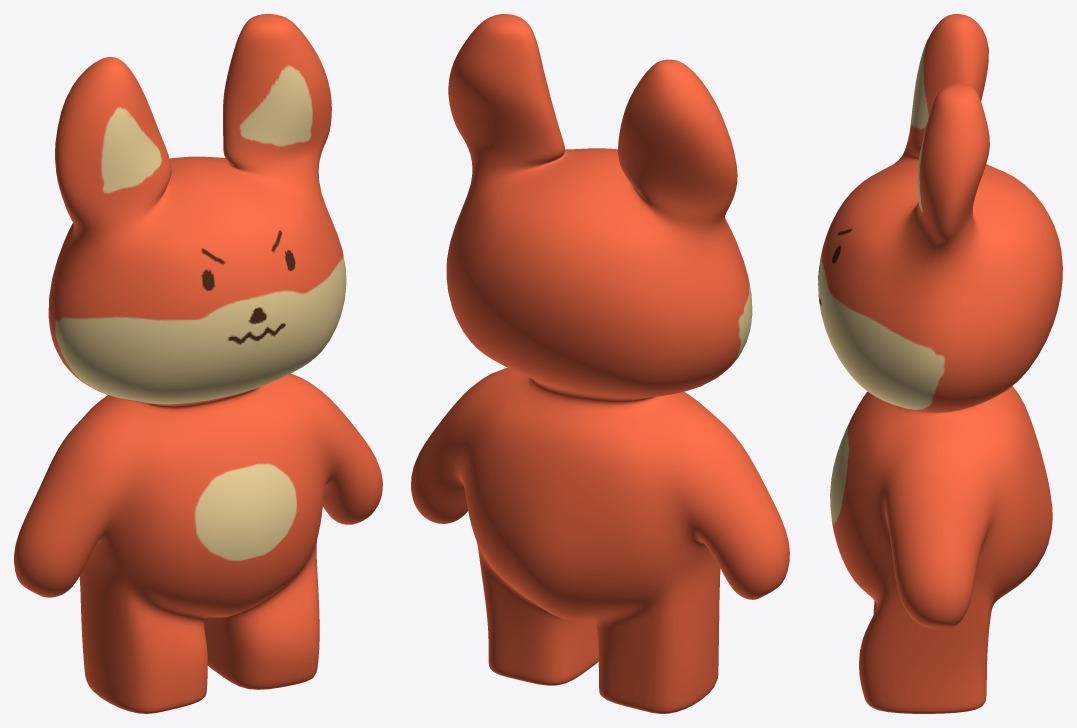
File: foxy.glb
3 views of the same model, side by side, from view 1: azimuth 30°, elevation 25°; view 2: azimuth 150°, elevation 25°; view 3: azimuth 270°, elevation 25° (orthographic). The views are drawn at different scales.
Parts seen in each view (by area): view 1: conejo; view 2: conejo; view 3: conejo.
Boxes of the visible parts, <box> form: conejo: <box>14,14,382,713</box>; conejo: <box>411,14,789,713</box>; conejo: <box>818,14,1062,713</box>.
Bounding box in the file's own units: 0.9931 × 1.67 × 0.5964.
Materials: 1 (1 with a texture image).
